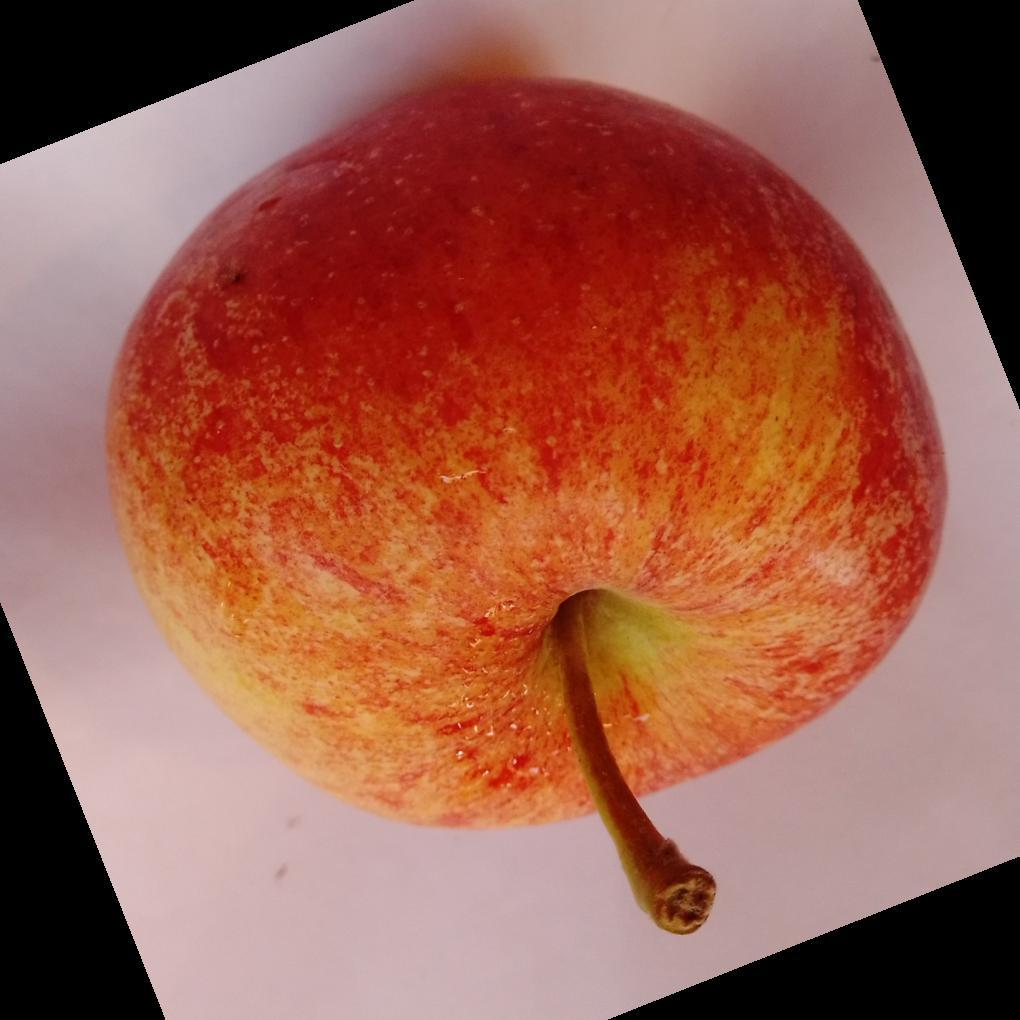FreshGuava: (101, 79, 950, 940)
